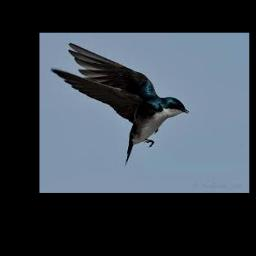Swallow: (51, 42, 188, 166)
